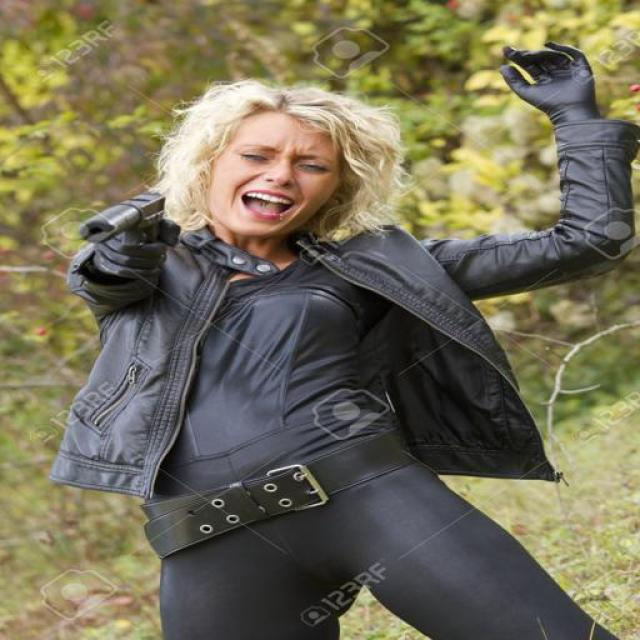pistol: (81, 190, 171, 259)
